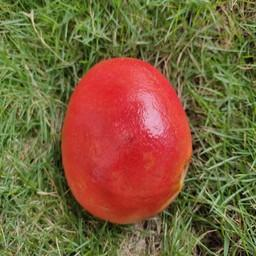pomegranate: (61, 57, 193, 224)
